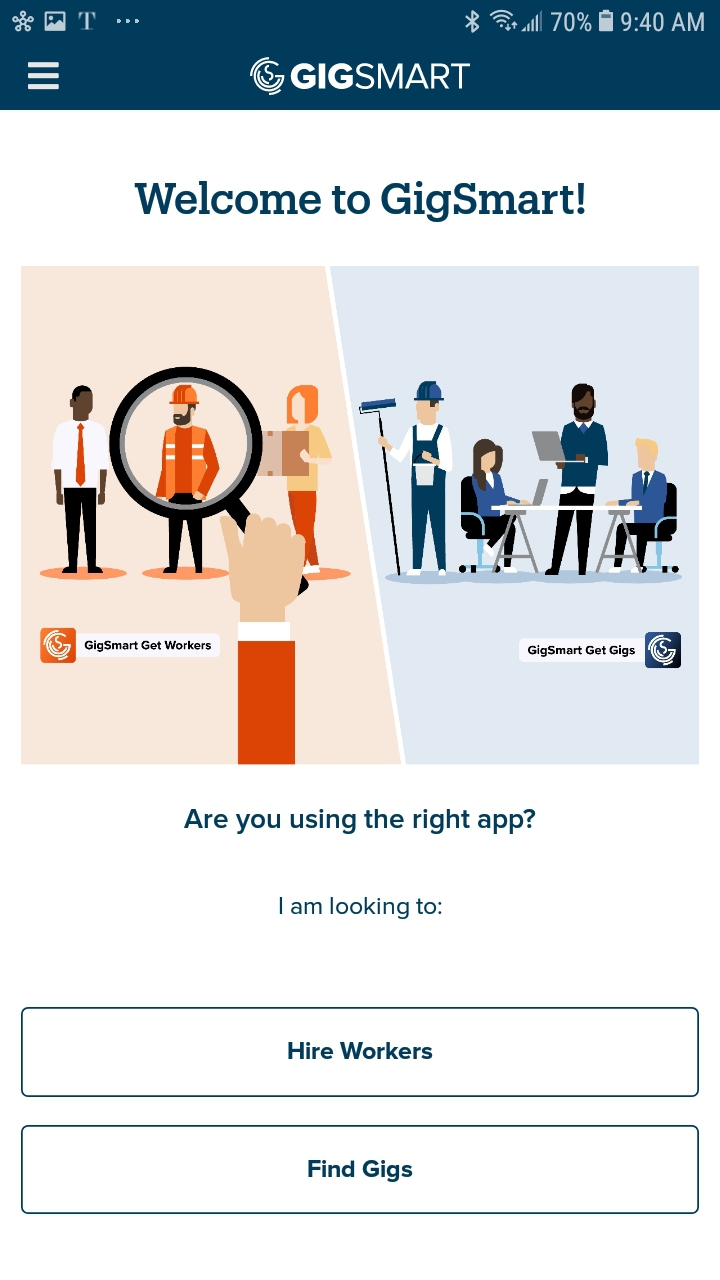Icon: (26, 60, 60, 91)
Image: (21, 266, 699, 765), (250, 57, 286, 97)
Text: (135, 182, 586, 224), (184, 808, 536, 835), (290, 63, 471, 91), (279, 896, 442, 920)
TextButton: (22, 1007, 700, 1098), (22, 1125, 700, 1215)
UpperTaskBar: (1, 1, 720, 35)
